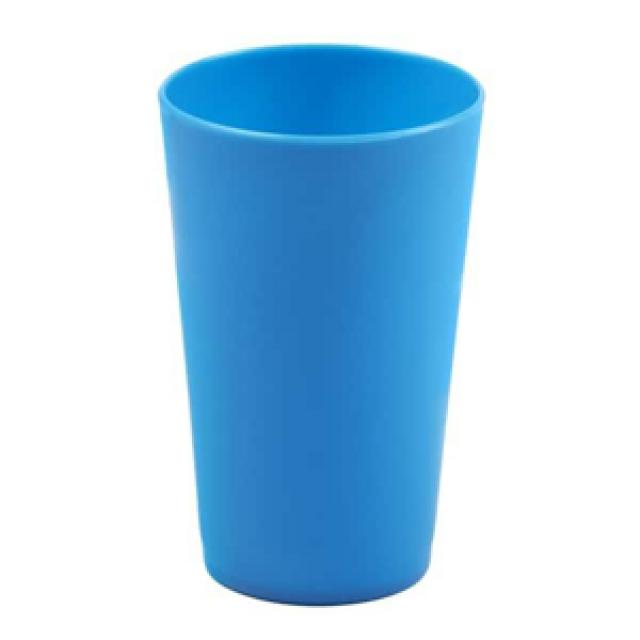plastic cup: (156, 36, 486, 610)
